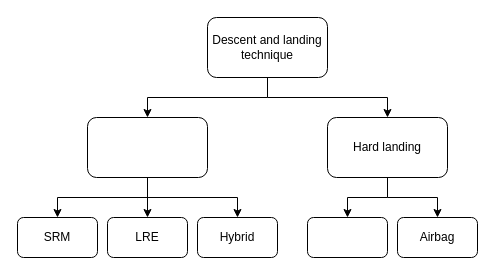
This 495x275 diagram has some shape labels left out. The shapes that lost their labels are listed below. From the top down, each one's centre as x and y in pixels, then its label:
the point at 147,147: Soft landing
the point at 347,237: Controlled crash
